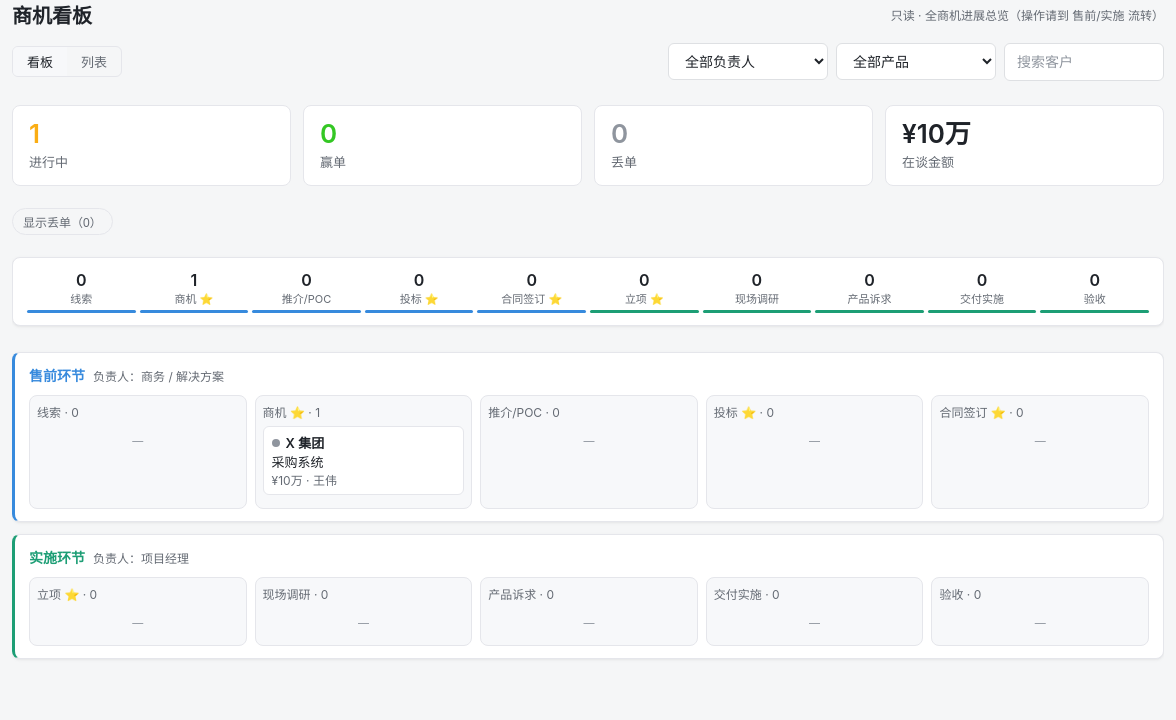
Test case: OpportunityBoard (read-only) › switches between board and list views (TC-OPPB-07)
Expected: the element with test id "opp-phase-presale" is shown, [12,352,1164,522]
Click the button with test id "opp-view-list" at (94, 62), box [67,47,121,76]
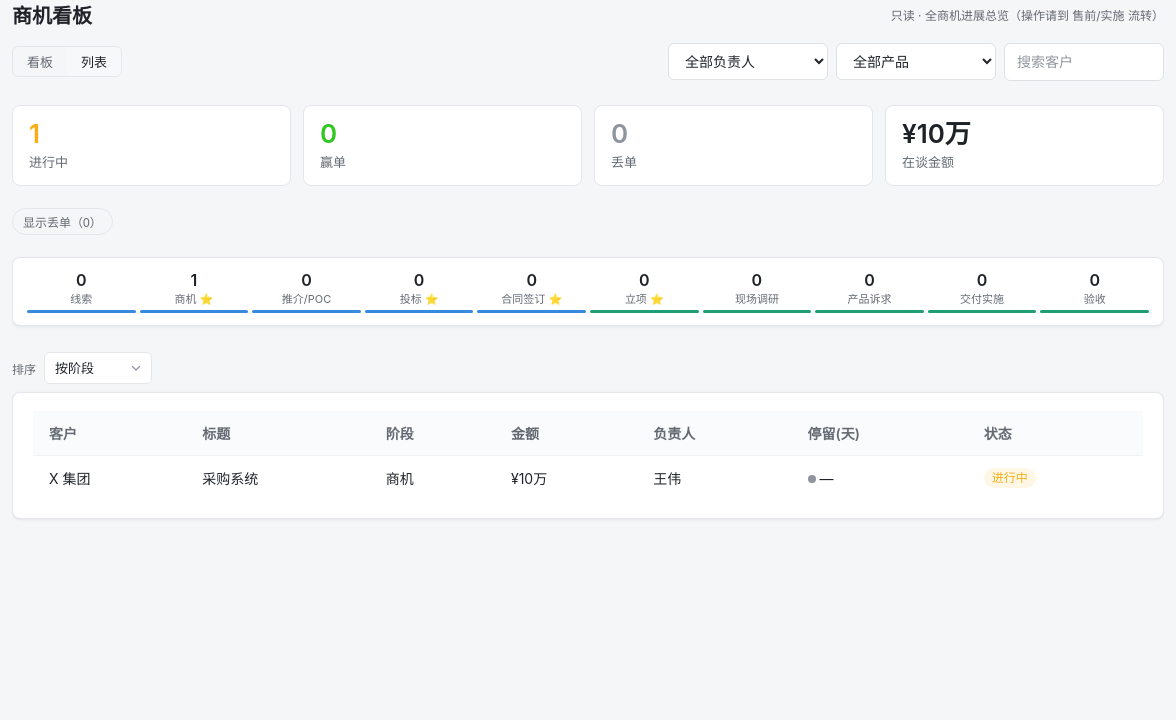
Expected: the table with test id "opp-list" is shown, [33,411,1143,500]
Expected: the element with test id "opp-phase-presale" is gone
Expected: the button with test id "opp-list-row-7" is shown, [33,456,1143,500]
Click the button with test id "opp-view-board" at (40, 62), box [13,47,67,76]
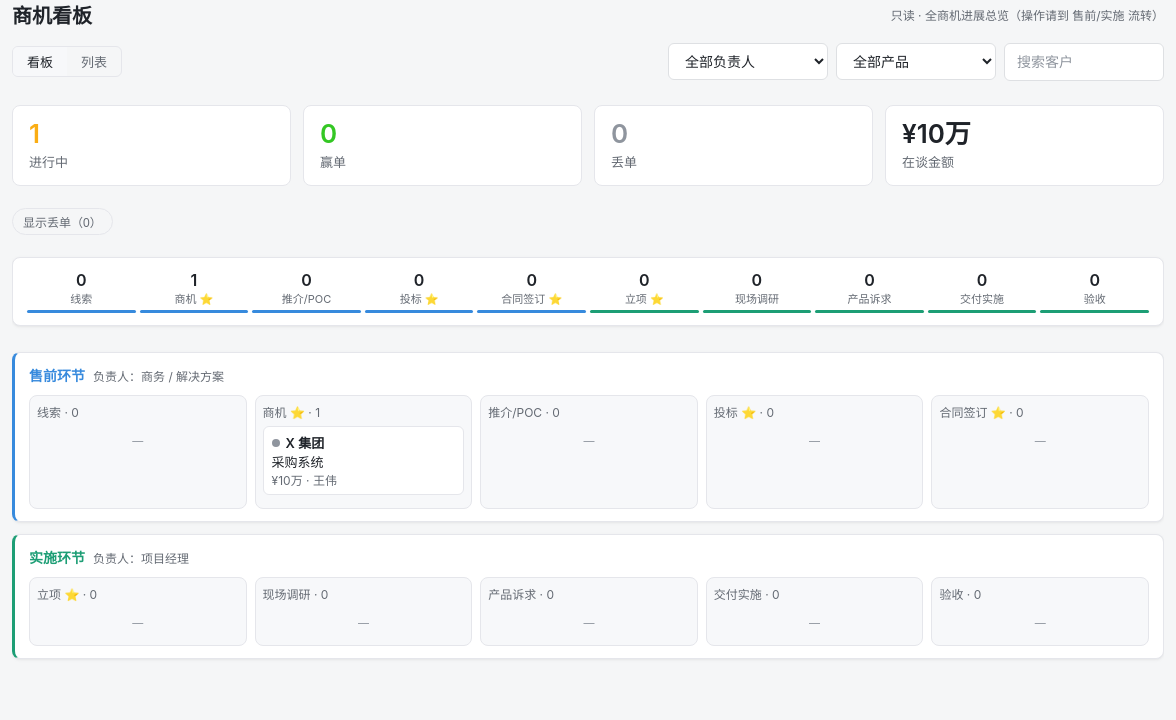
Expected: the element with test id "opp-phase-presale" is shown, [12,352,1164,522]
